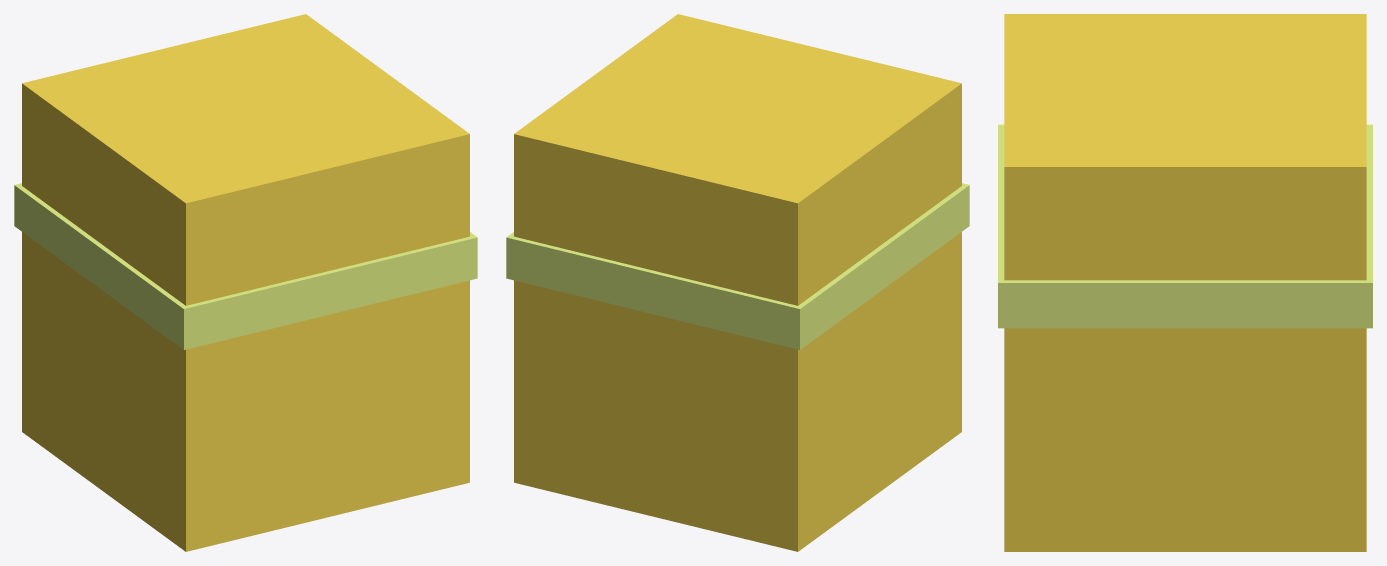
The model's file is bombeiro_manga_sup.glb.
The picture shows the model from 3 angles, left to right: view 1: azimuth 30°, elevation 25°; view 2: azimuth 150°, elevation 25°; view 3: azimuth 270°, elevation 25°; orthographic projection. The views are drawn at different scales.
Visible parts, largest first — view 1: bombeiro_manga_sup; view 2: bombeiro_manga_sup; view 3: bombeiro_manga_sup.
Boxes of the visible parts, x1=… form: bombeiro_manga_sup: x1=14, y1=14, x2=477, y2=551; bombeiro_manga_sup: x1=506, y1=14, x2=969, y2=551; bombeiro_manga_sup: x1=998, y1=14, x2=1372, y2=551.
Size of the model in its own units: 0.3 by 0.34 by 0.3.
